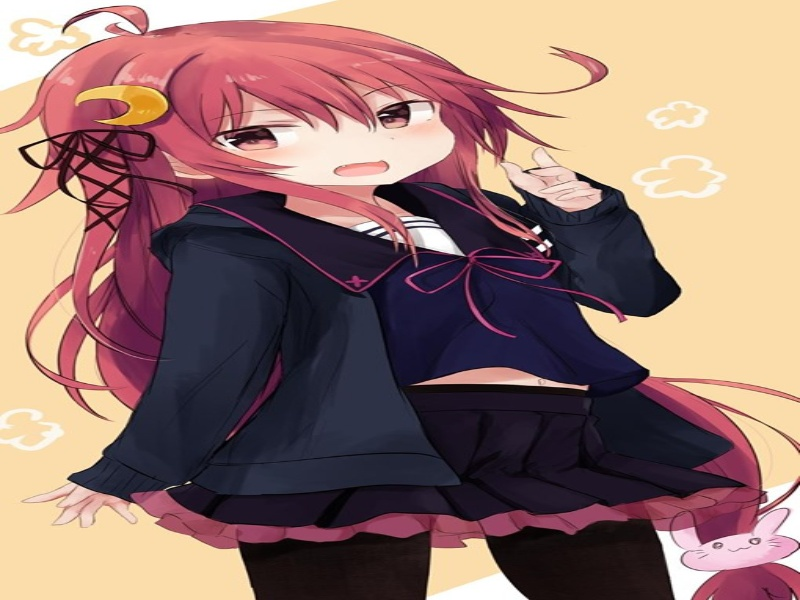dress: (143, 370, 786, 545)
person: (44, 18, 521, 238)
